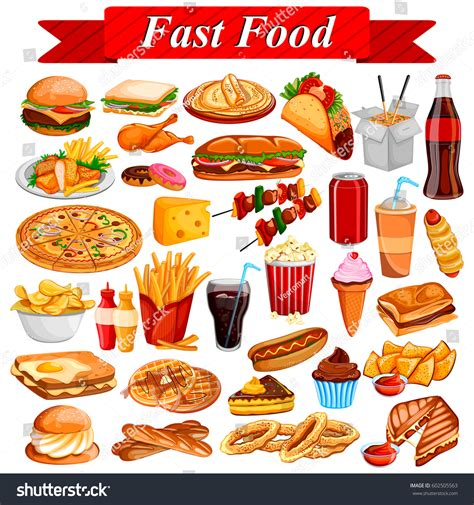inorganic: (282, 69, 360, 152), (22, 203, 114, 261), (385, 406, 460, 471), (17, 346, 111, 391), (428, 70, 461, 188), (14, 77, 90, 128), (239, 317, 331, 359), (229, 420, 354, 450), (367, 341, 450, 386), (127, 363, 217, 404), (378, 285, 463, 326), (423, 210, 474, 276), (198, 145, 309, 174), (239, 191, 311, 234), (95, 77, 173, 116), (331, 255, 370, 332), (29, 148, 104, 185), (117, 425, 212, 454), (224, 373, 300, 407), (34, 408, 92, 452), (182, 77, 266, 106), (207, 284, 245, 348), (152, 196, 211, 236), (13, 278, 75, 306), (109, 121, 181, 145), (120, 164, 186, 186), (138, 262, 184, 289), (319, 355, 353, 375), (370, 106, 404, 123), (263, 249, 328, 256)
organic: (412, 69, 474, 197), (353, 75, 417, 164), (322, 162, 371, 247), (197, 268, 251, 343), (379, 186, 416, 284), (94, 281, 143, 344), (314, 385, 360, 401)
